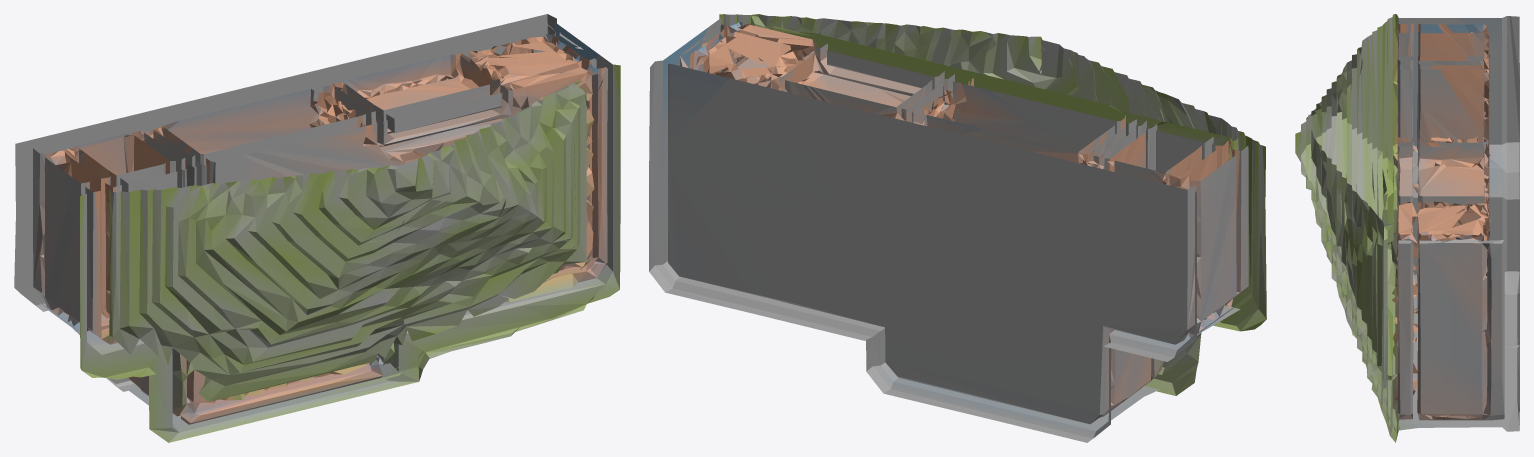
File: 01440_optimized_cutaway.glb
The picture shows the model from 3 angles, left to right: view 1: azimuth 30°, elevation 25°; view 2: azimuth 150°, elevation 25°; view 3: azimuth 270°, elevation 25°; orthographic projection. The views are drawn at different scales.
Visible parts, largest first — view 1: world; view 2: world; view 3: world.
Boxes of the visible parts, x1=… form: world: x1=14, y1=14, x2=620, y2=442; world: x1=649, y1=14, x2=1266, y2=442; world: x1=1295, y1=14, x2=1519, y2=442.
Size of the model in its own units: 108 by 51 by 44.19.
